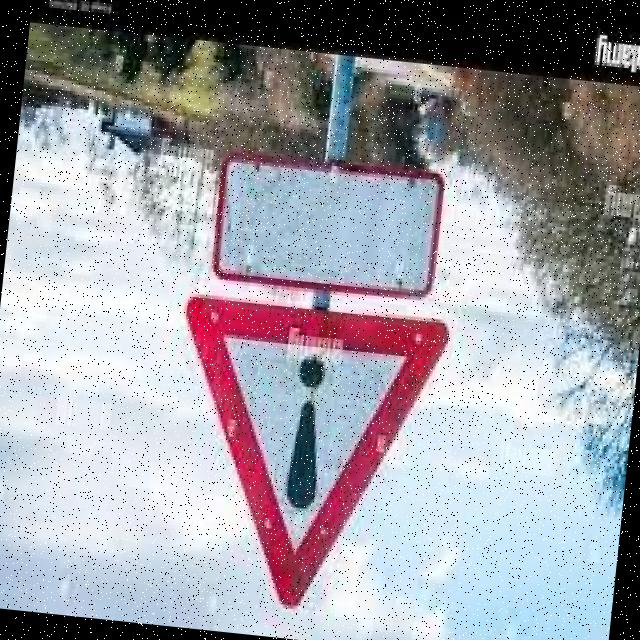warning: (146, 279, 457, 624)
